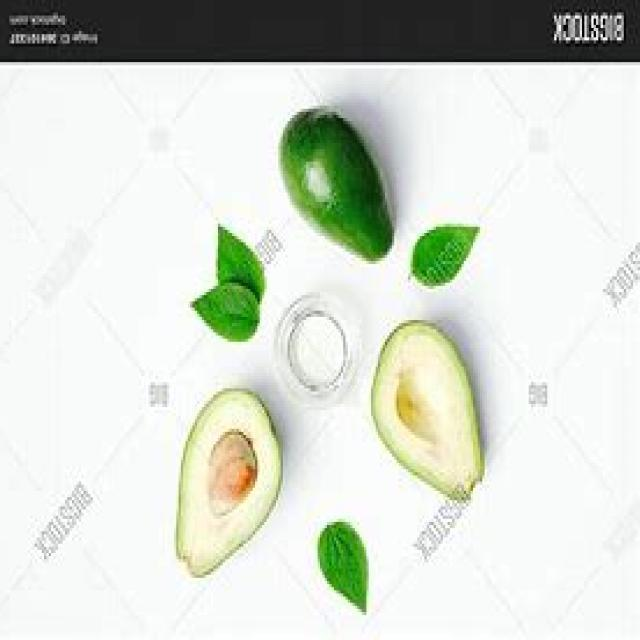avocado: (172, 386, 284, 587), (371, 314, 488, 503), (276, 105, 398, 266)
